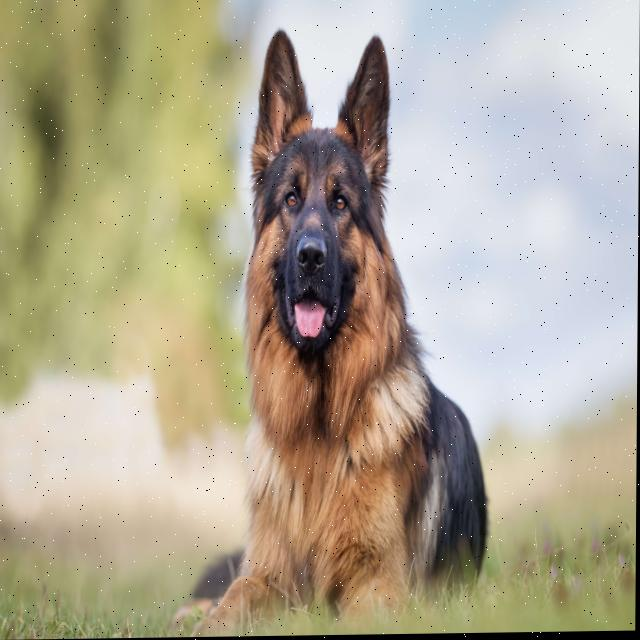GERMAN_SHEPHERD: (187, 17, 498, 638)
